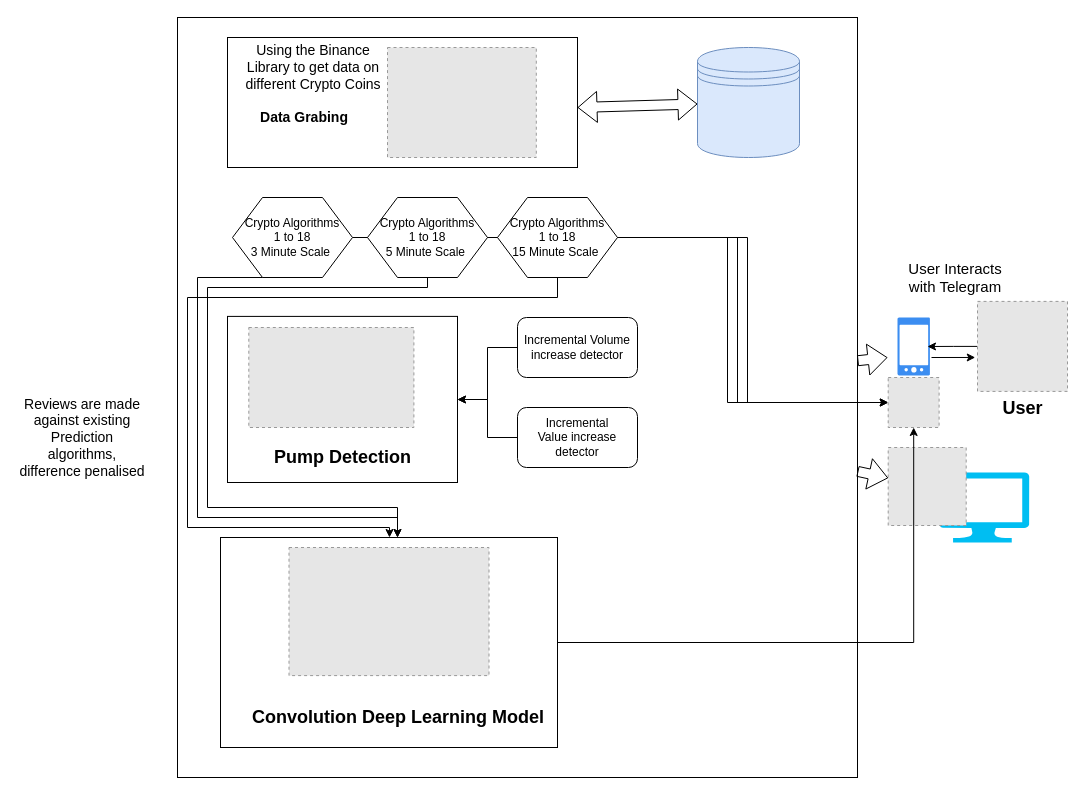
Some shapes in this 1085 by 795 pixel diagram are drawn without their labels. Grey dashed boxes stand in for pictures. The shapes that lost their labels are listed below. From the top down, each one's box as (x1, y1, x2, y2) in pixels, then its label:
(696, 46, 800, 158): Stored Information on Major Coins
(939, 472, 1029, 542): Expert Feedback
